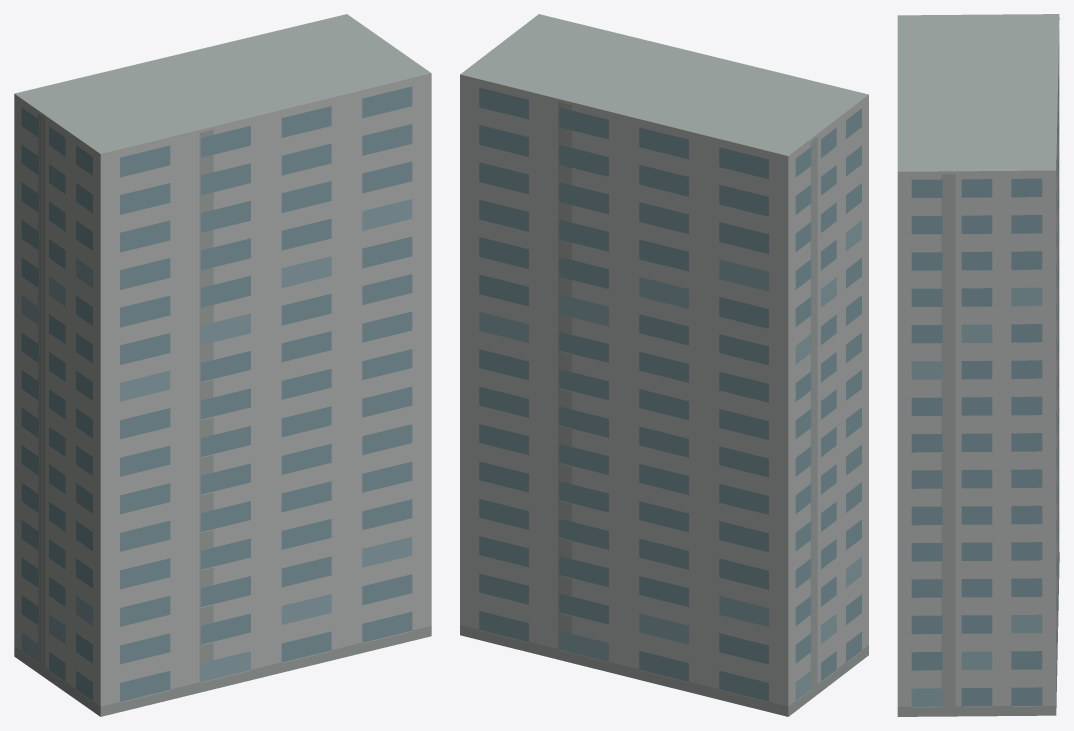
File: residential-e2207c5e-6ade-4f14-aafc-9b440528a095.glb
3 renders of one model, left to right at view 1: azimuth 30°, elevation 25°; view 2: azimuth 150°, elevation 25°; view 3: azimuth 270°, elevation 25°, orthographic. The views are drawn at different scales.
Parts seen in each view (by area): view 1: residential-e2207c5e-6ade-4f14-aafc-9b440528a095.tmp; view 2: residential-e2207c5e-6ade-4f14-aafc-9b440528a095.tmp; view 3: residential-e2207c5e-6ade-4f14-aafc-9b440528a095.tmp.
Part boxes in pixels (x1=…): residential-e2207c5e-6ade-4f14-aafc-9b440528a095.tmp: x1=14, y1=14, x2=431, y2=716; residential-e2207c5e-6ade-4f14-aafc-9b440528a095.tmp: x1=460, y1=14, x2=868, y2=716; residential-e2207c5e-6ade-4f14-aafc-9b440528a095.tmp: x1=897, y1=14, x2=1059, y2=716.
Bounding box in the file's own units: 28.41 × 45.75 × 12.33.
